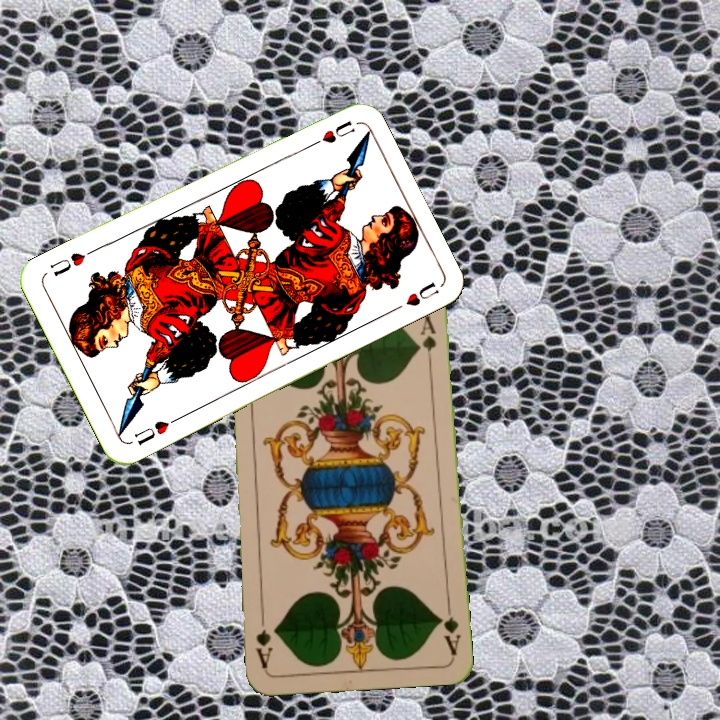GA: (435, 599, 463, 658)
HU: (303, 116, 358, 151), (130, 413, 182, 448)
